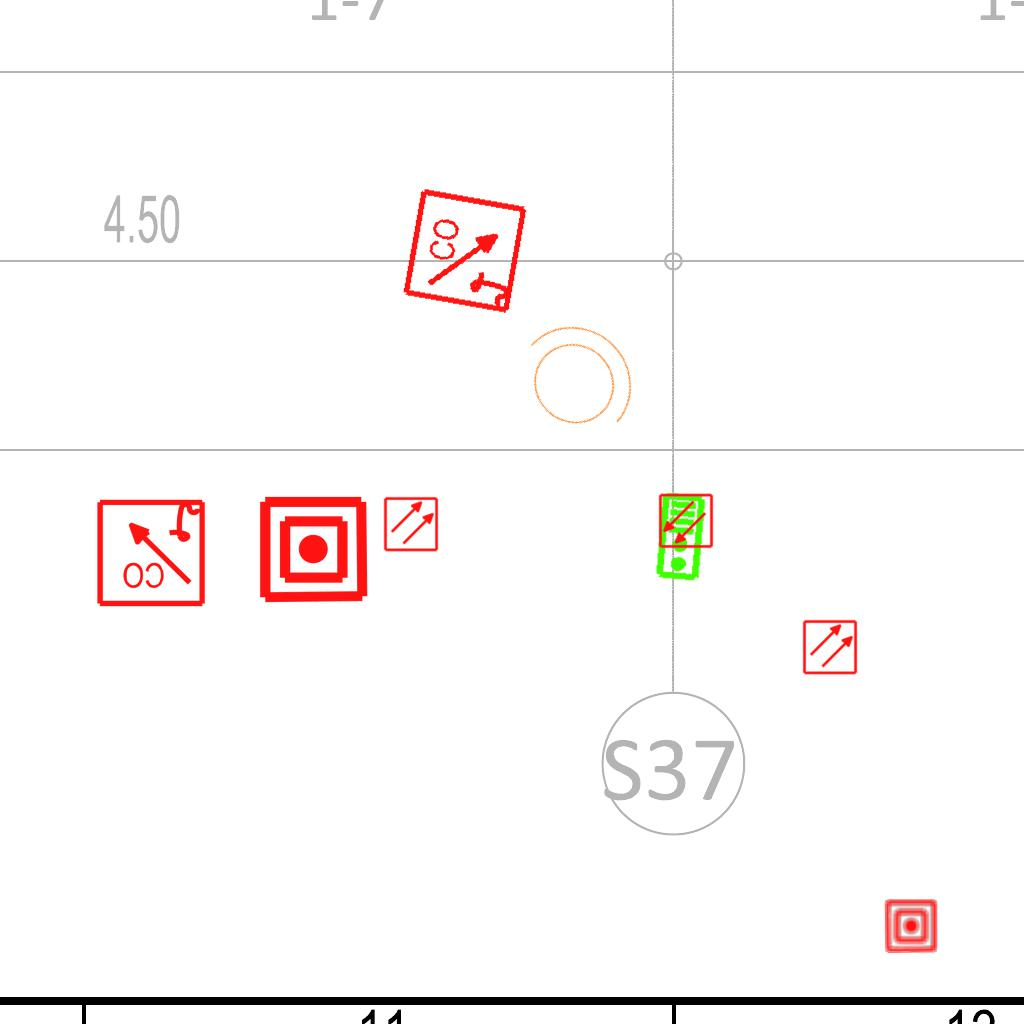Gegensprechanlage_mit_Video: (654, 491, 709, 583)
NAM-Nichtautomatischer_Melder: (257, 493, 370, 606), (883, 898, 939, 954)
RMO_Rauchmelder_optischer: (383, 496, 439, 552), (802, 619, 858, 675), (658, 493, 714, 549)
ROA_Rauchmelder_optisch_mit_Signalgeber_(Sockelsirene): (401, 185, 532, 316), (94, 495, 207, 608)
Scheinwerfer_fuer_Alarmbeleuchtung: (488, 292, 662, 464)
